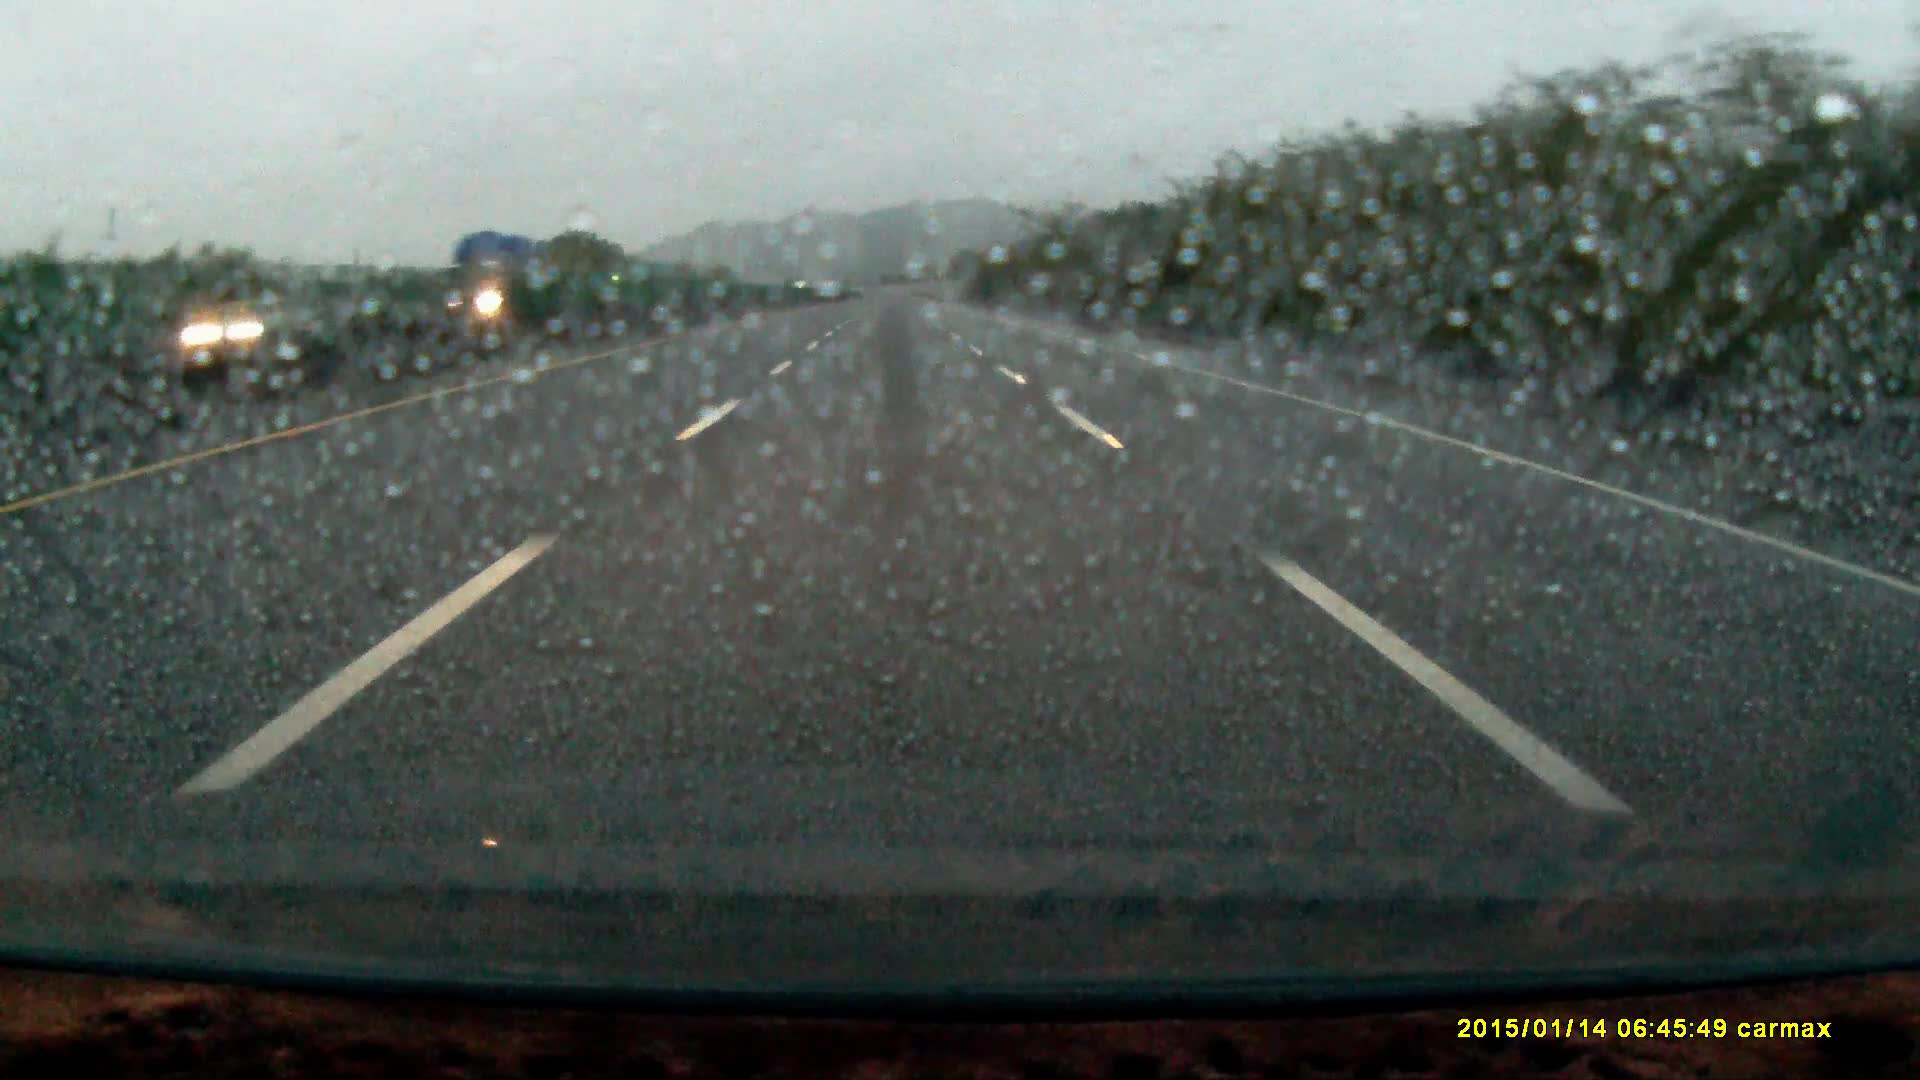vehicle: (442, 240, 556, 335), (187, 305, 316, 349)
